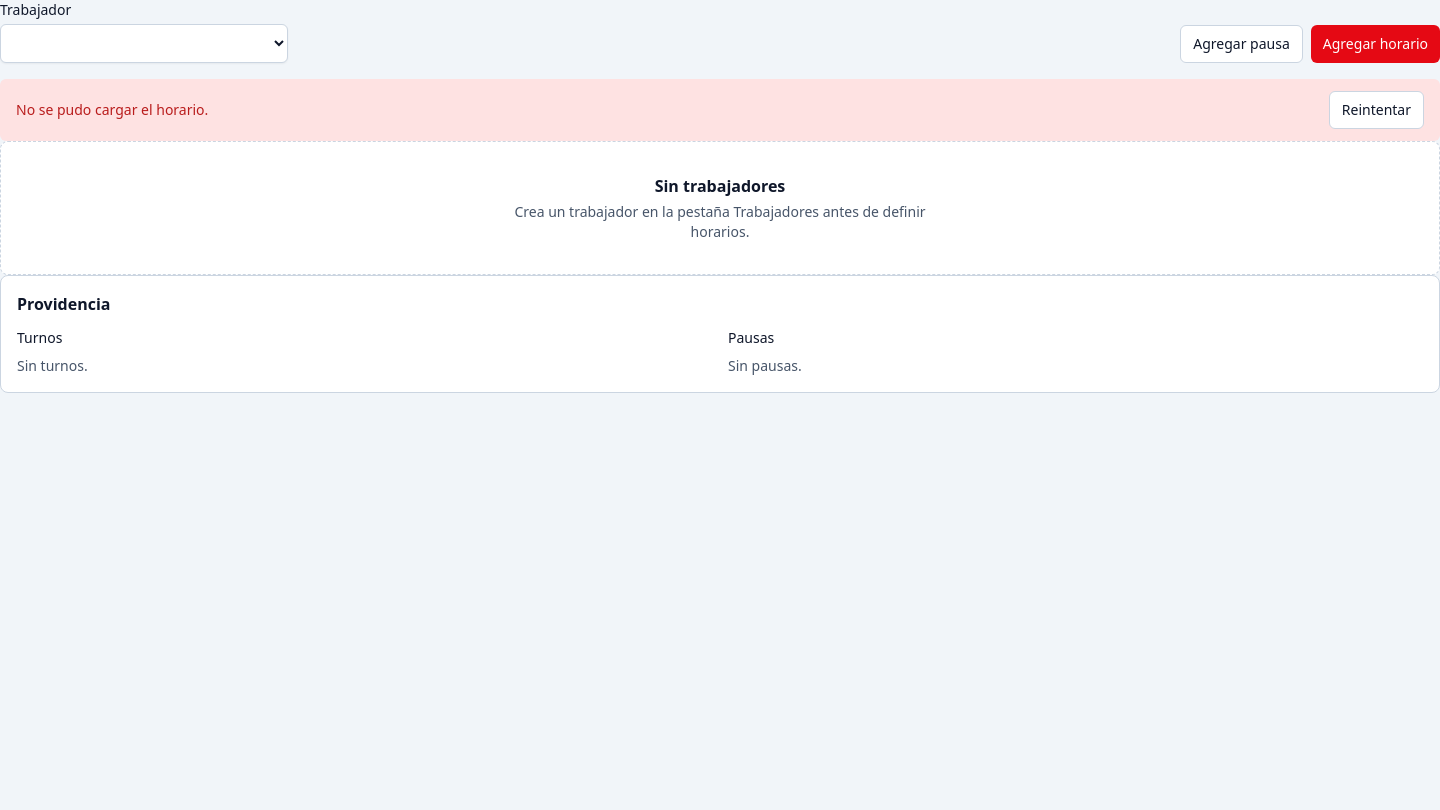
Test: ScheduleSection › rechaza un término anterior al inicio
Click the button "Agregar horario".
click(1375, 44)  # box x1=1311 y1=25 x2=1439 y2=63
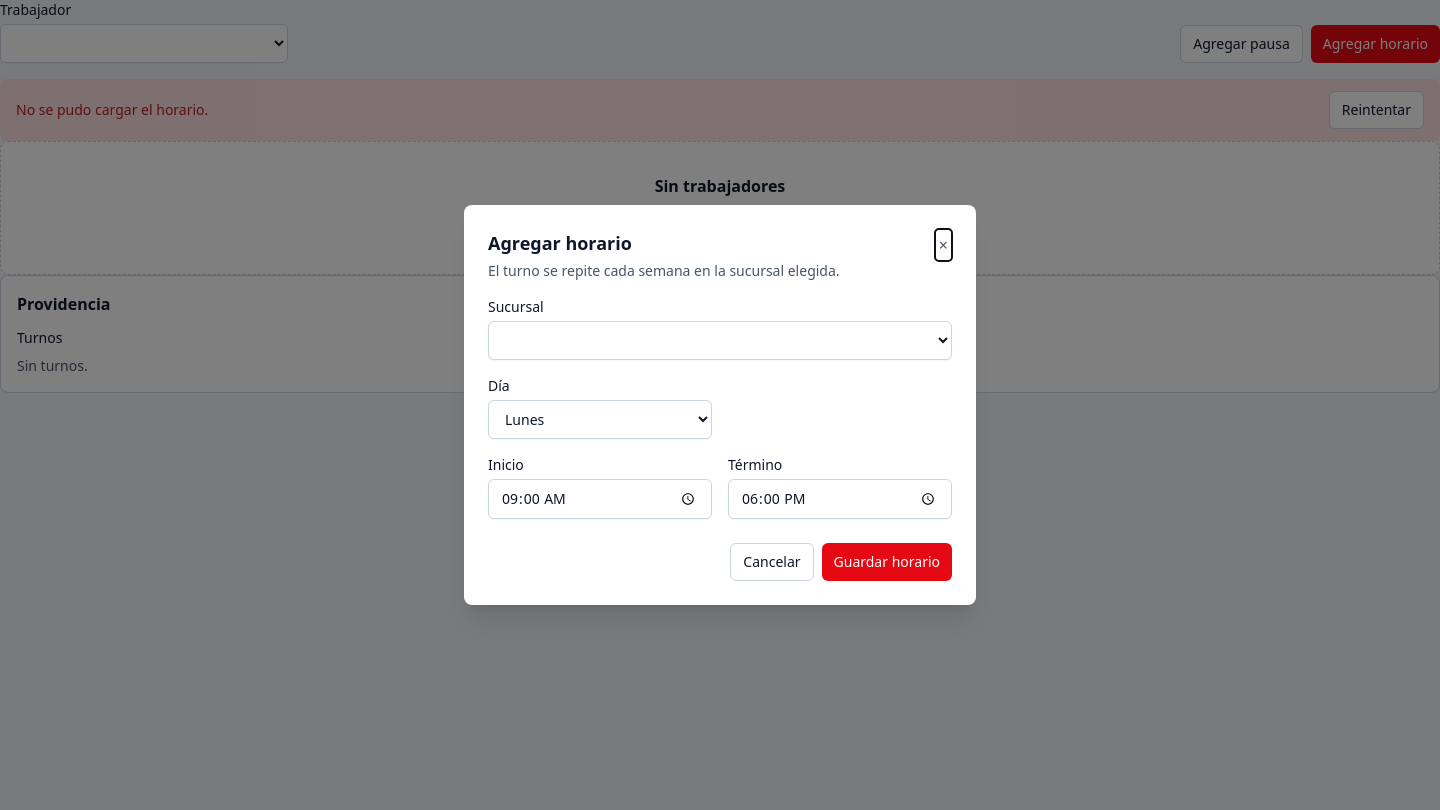
Replace the text in the time field labelled "Término" with "08:00" at (840, 499), box x1=728 y1=479 x2=952 y2=519
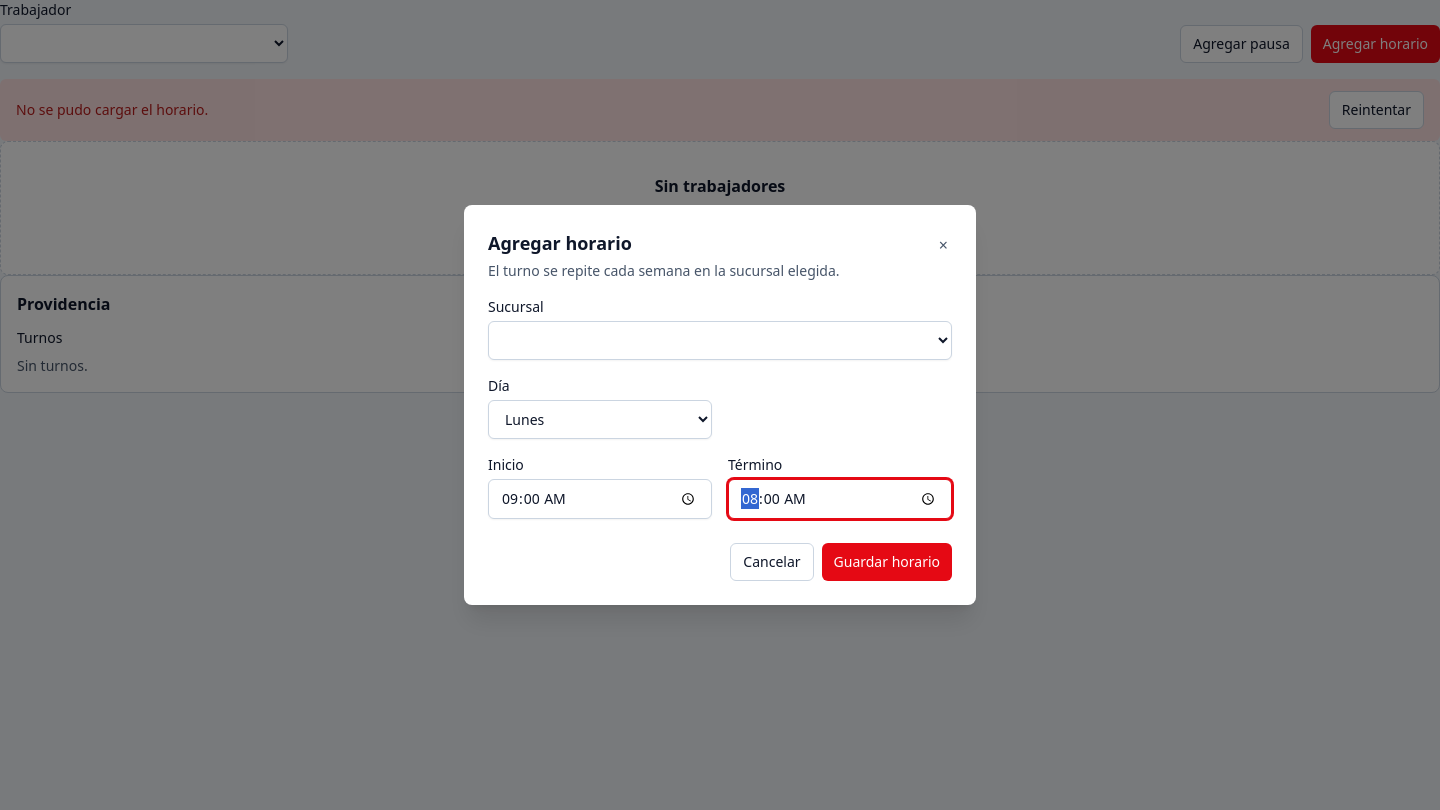
Click the button "Guardar horario".
click(887, 562)  # box x1=822 y1=543 x2=952 y2=581
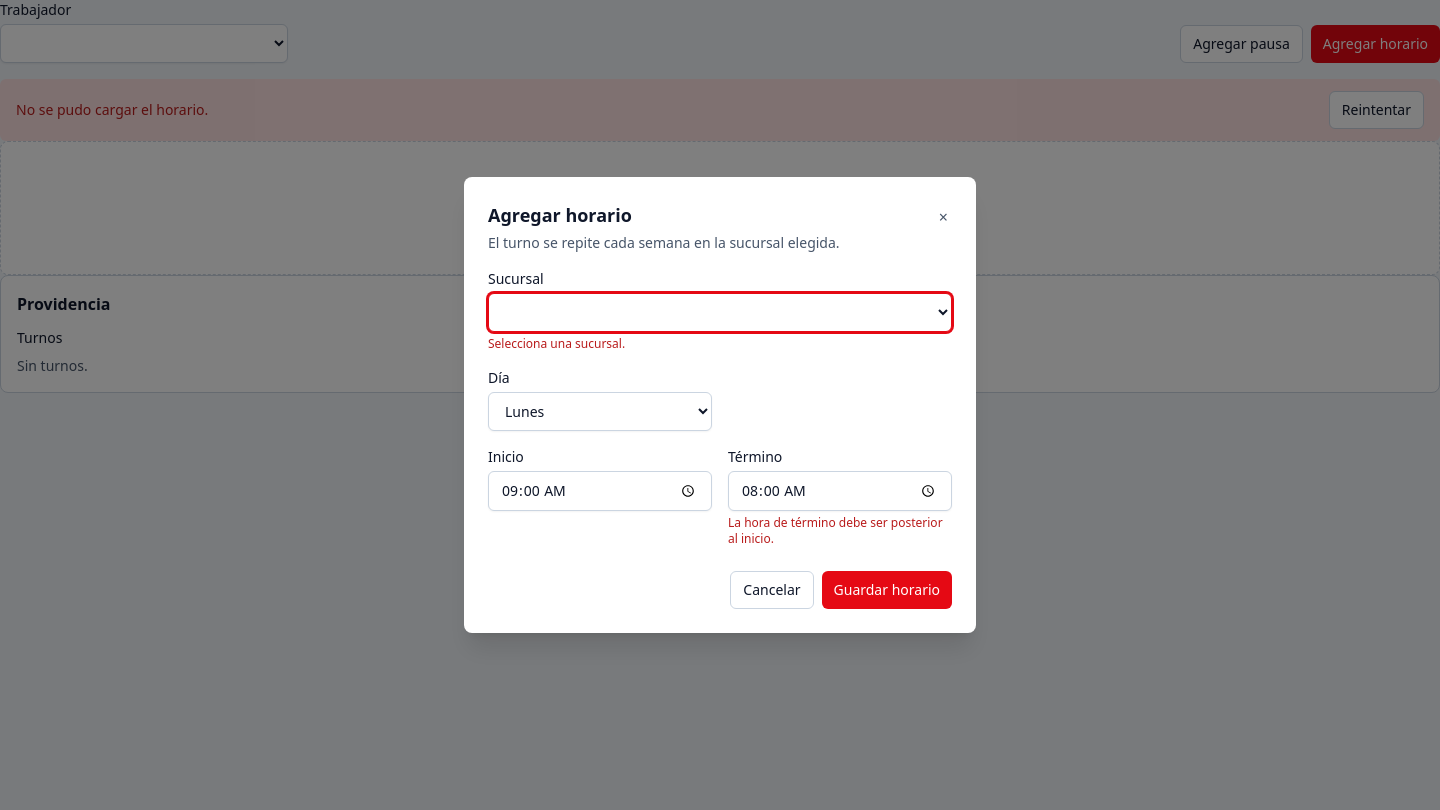
Now the text "La hora de término debe ser posterior al inicio." is shown, box x1=728 y1=515 x2=952 y2=547
